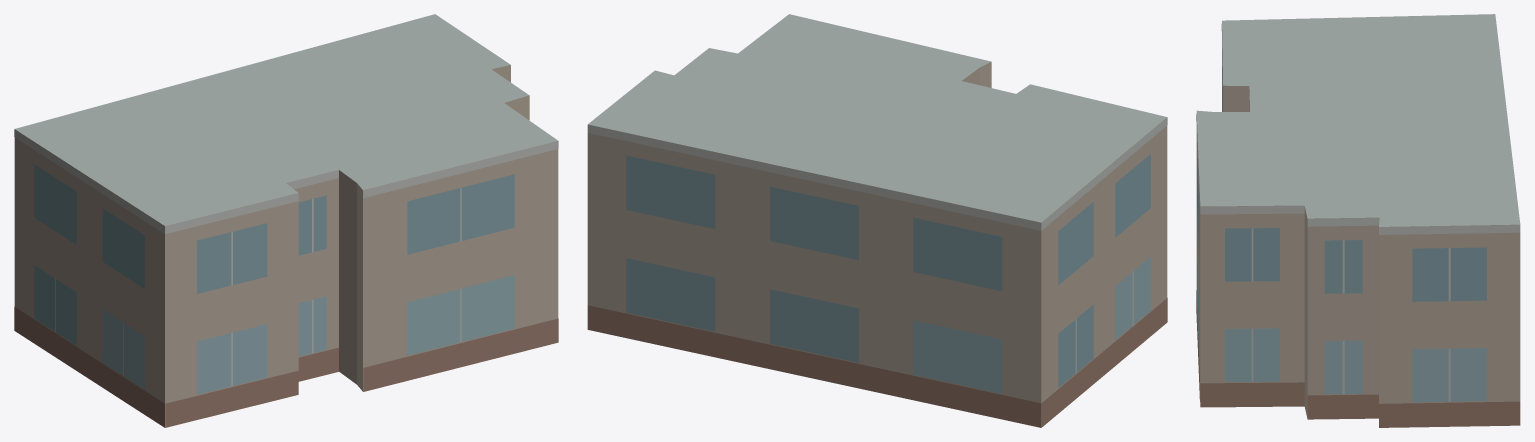
Rendered from survey-upis-32689801.glb.
3 renders of one model, left to right at view 1: azimuth 30°, elevation 25°; view 2: azimuth 150°, elevation 25°; view 3: azimuth 270°, elevation 25°, orthographic. The views are drawn at different scales.
Visible parts, largest first — view 1: survey-upis-32689801.tmp; view 2: survey-upis-32689801.tmp; view 3: survey-upis-32689801.tmp.
Part boxes in pixels (x1,y1,x2,y2): survey-upis-32689801.tmp: (14, 14, 558, 427); survey-upis-32689801.tmp: (587, 14, 1167, 427); survey-upis-32689801.tmp: (1196, 14, 1520, 427).
Size of the model in its own units: 13.88 by 6.1 by 8.92.
